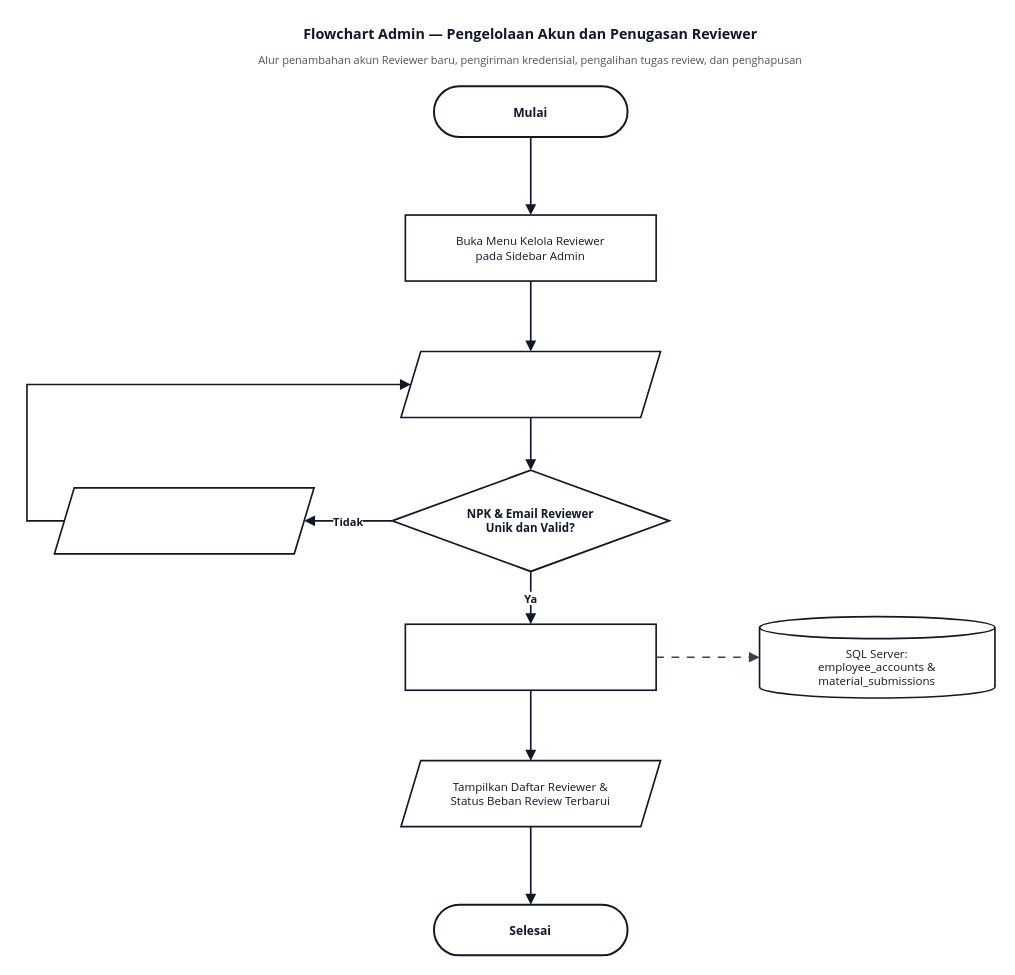
This 1015x975 diagram has some shape labels left out. The box of each missing label's shape, as (x1, y1, x2, y2) in pixels:
Input Data Reviewer Baru, Ubah Status, atau Alihkan Tugas Review: (400, 350, 661, 418)
Simpan Akun Reviewer, Antrekan Email Kredensial & Perbarui Tugas: (404, 623, 656, 691)
Tampilkan Pesan Kesalahan Data Akun Reviewer: (53, 487, 314, 554)
